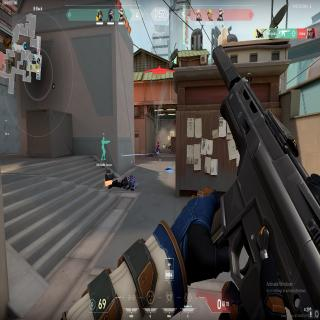ENEMY-HEAD: (158, 141, 160, 143)
